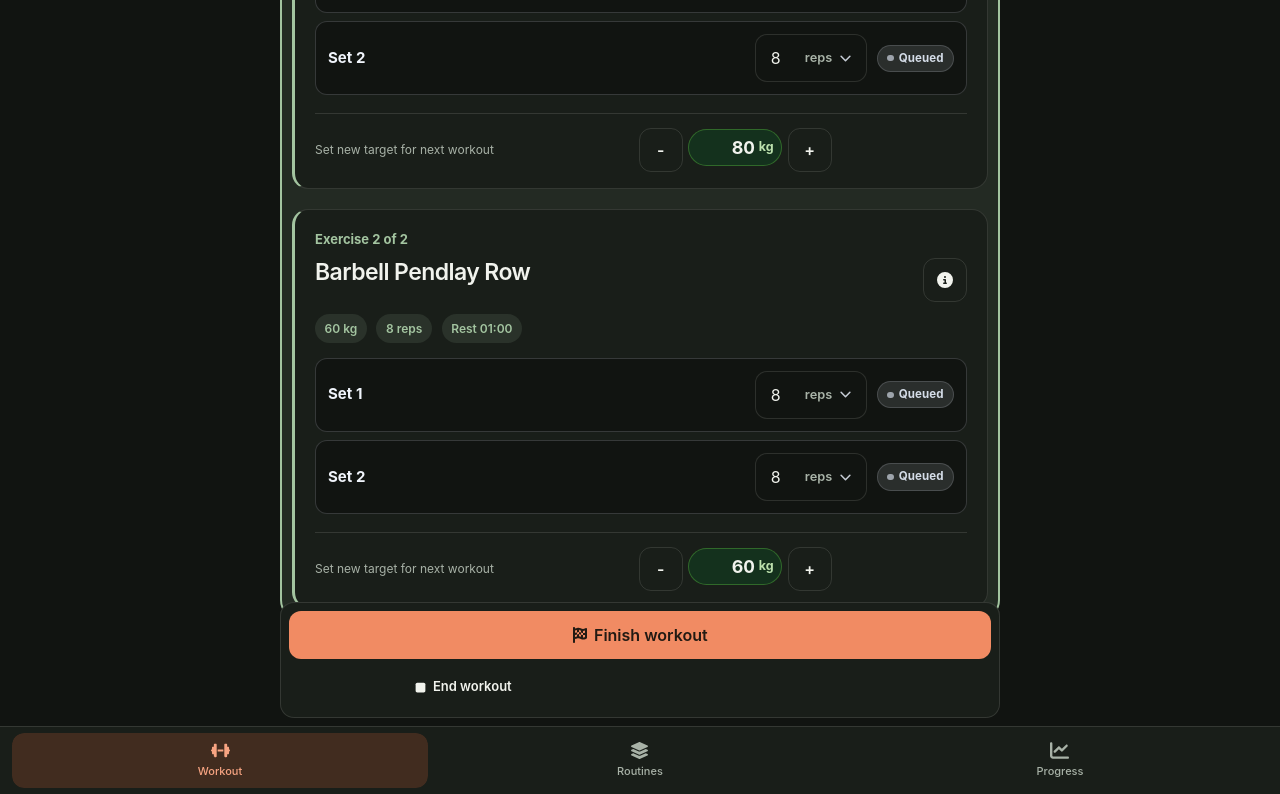
Test case: App UI flows › treats a final superset pair as workout-completing when partner checklist is done
(page scrolled)
Check: the button "Finish workout" is shown, box [289, 611, 991, 659]
Click the button with aria-label "Toggle set 1 for Pendlay Row".
click(916, 395)  # box [315, 358, 967, 432]
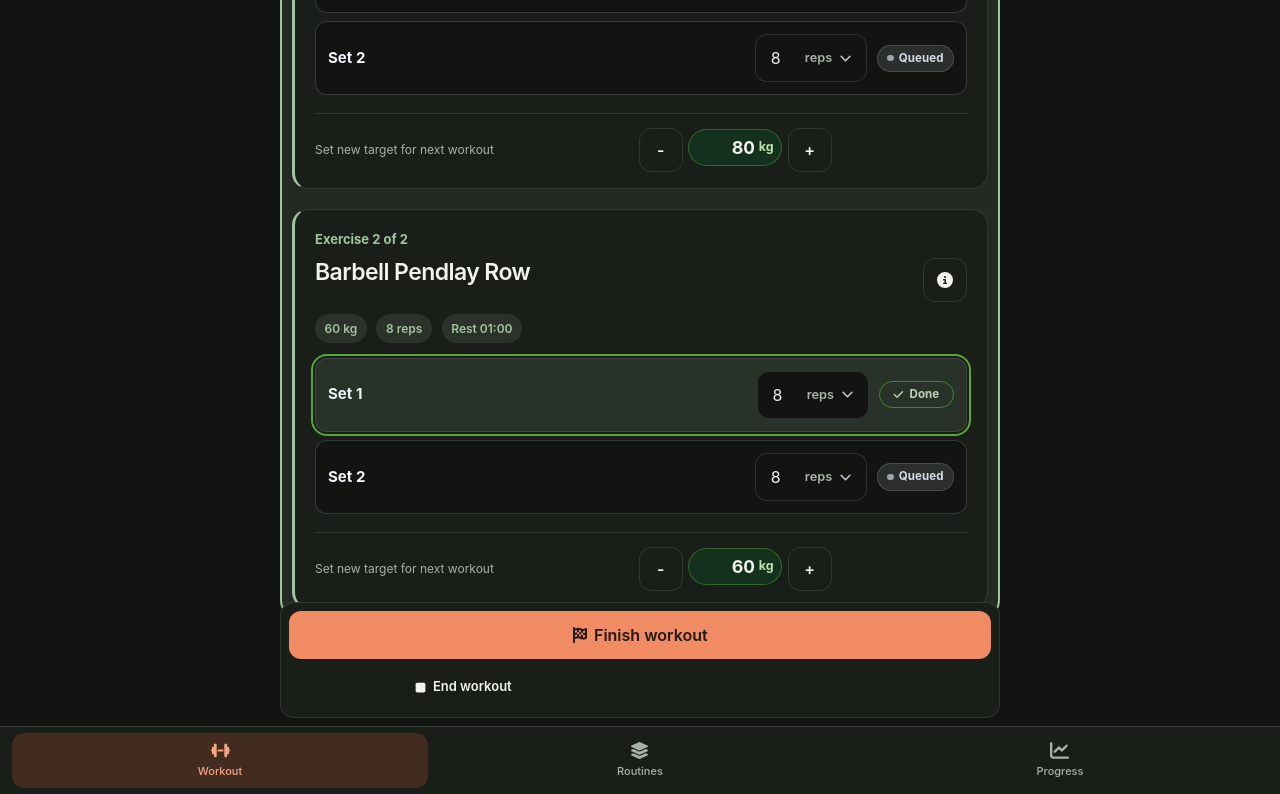
Click the button with aria-label "Toggle set 2 for Pendlay Row".
click(916, 477)  # box [315, 440, 967, 514]
(page scrolled)
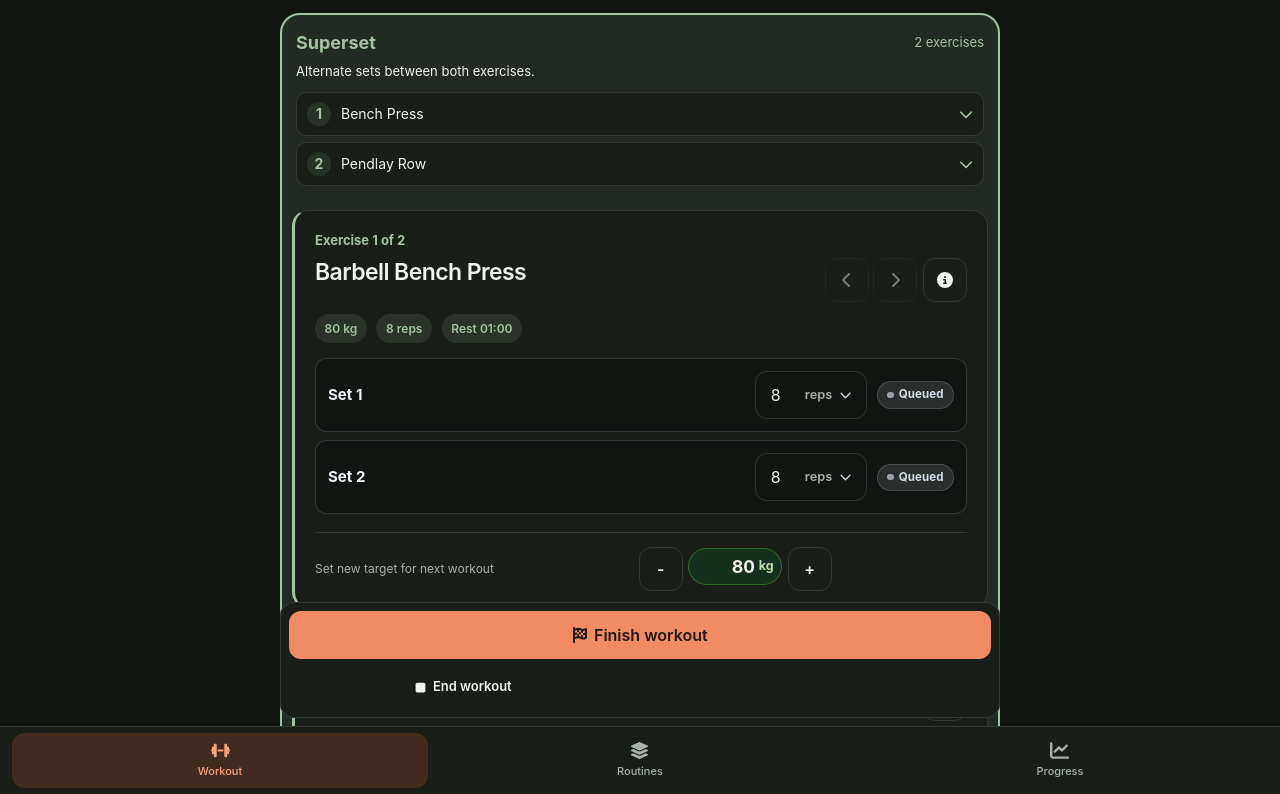
Check: the button "Finish workout" is shown, box [289, 611, 991, 659]
Click the button with aria-label "Toggle set 1 for Bench Press".
click(916, 395)  # box [315, 358, 967, 432]
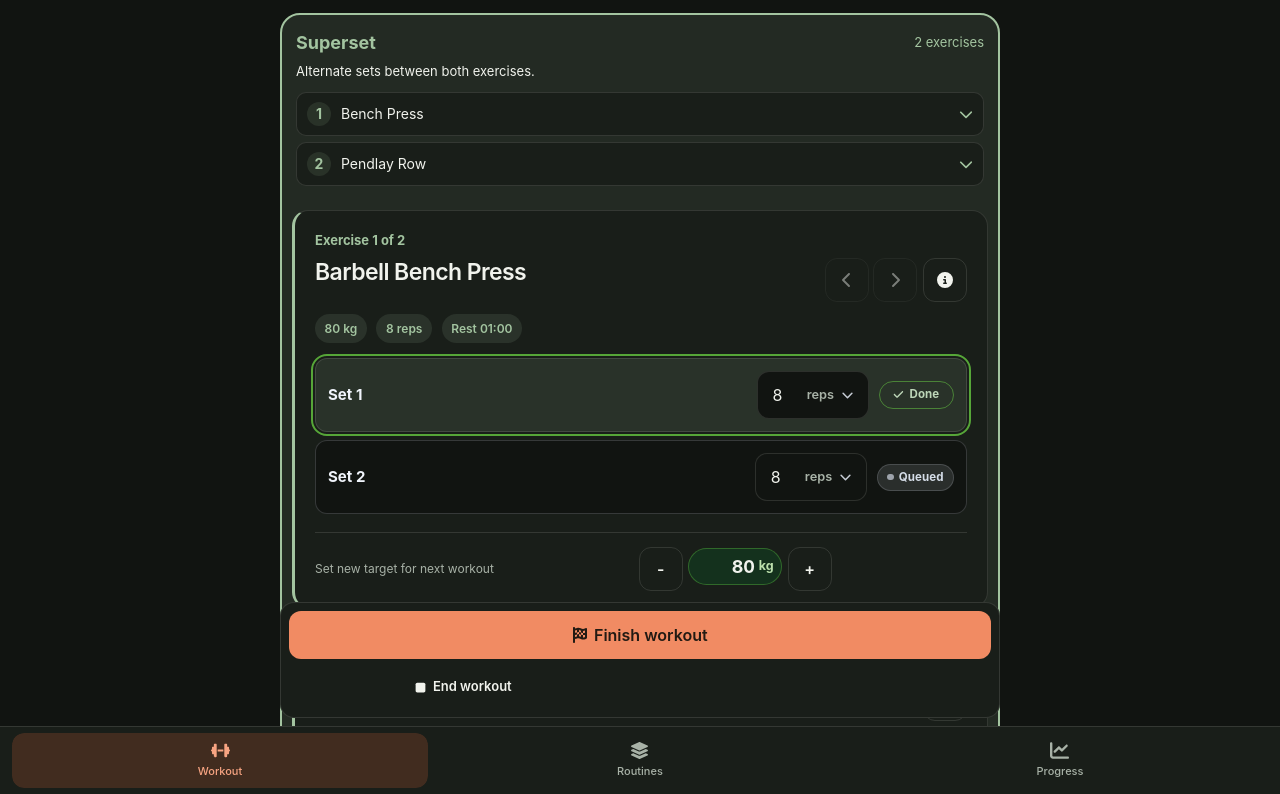
Click the button with aria-label "Toggle set 2 for Bench Press".
click(916, 477)  # box [315, 440, 967, 514]
(page scrolled)
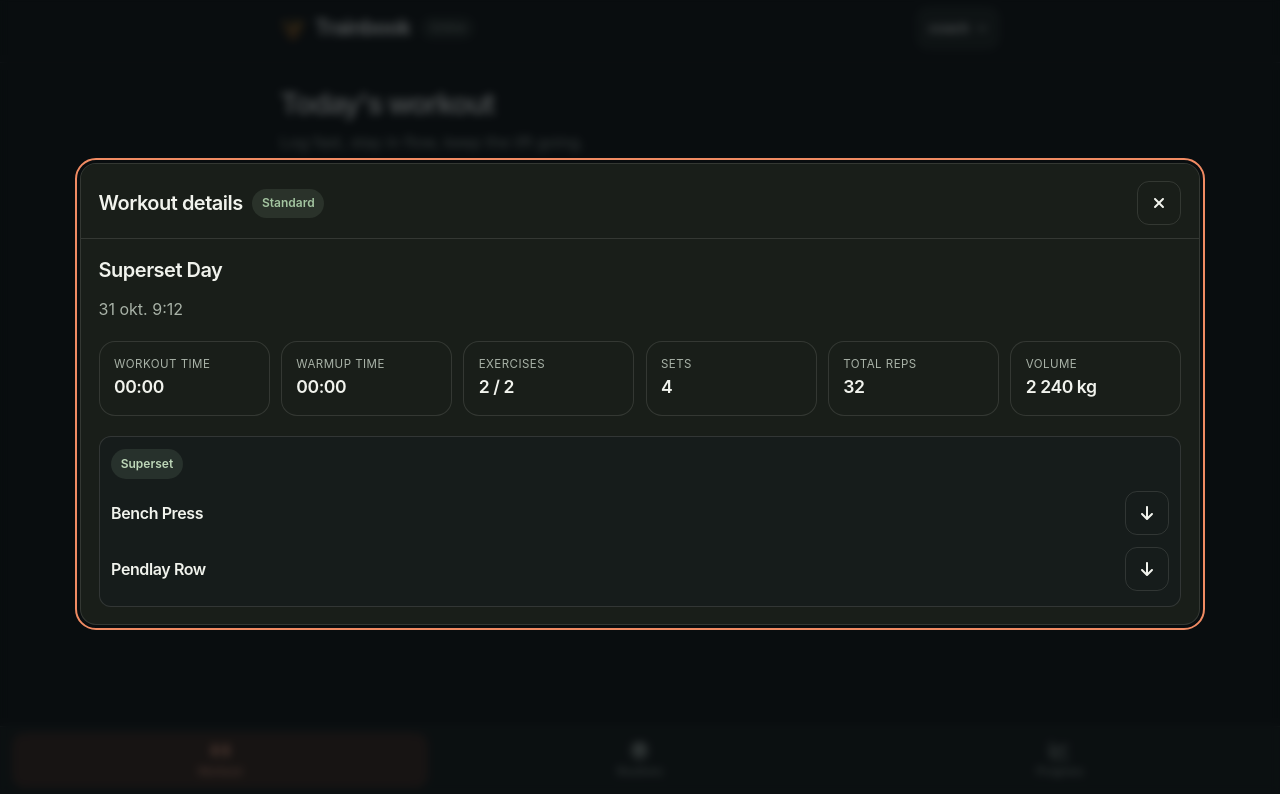
Check: the text "Workout details" is shown, box [99, 188, 243, 218]
